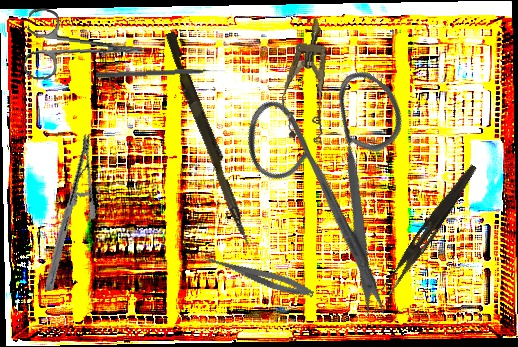Dressing Forceps: (380, 159, 479, 300)
Iris Scissors: (196, 32, 497, 325), (23, 6, 148, 90)
Micro Scissor: (197, 250, 316, 302)
Needle Holder: (8, 132, 128, 293)
Pusher: (159, 31, 259, 247), (95, 67, 226, 80)
Speculum: (276, 15, 340, 144)
